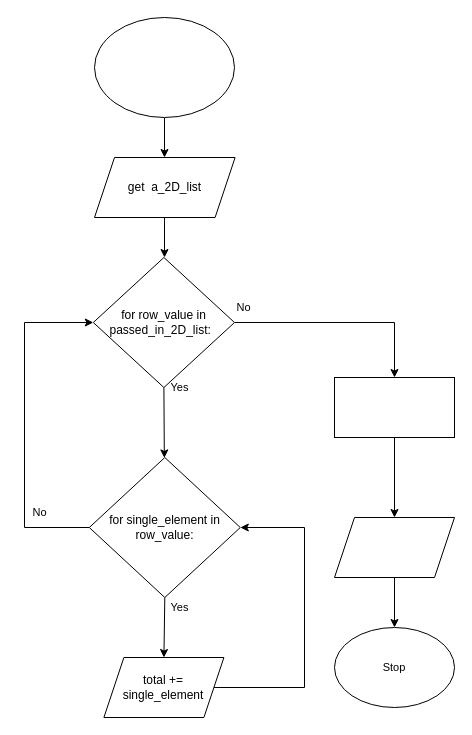
Some shapes in this 472 by 735 pixel diagram are drawn without their labels. The shapes that lost their labels are listed below. From the top down, each one's centre as x and y in pixels, then its label:
At point 164,67: "Start".
At point 394,407: "average = round(total / (rows * columns))".
At point 394,547: "return average".
